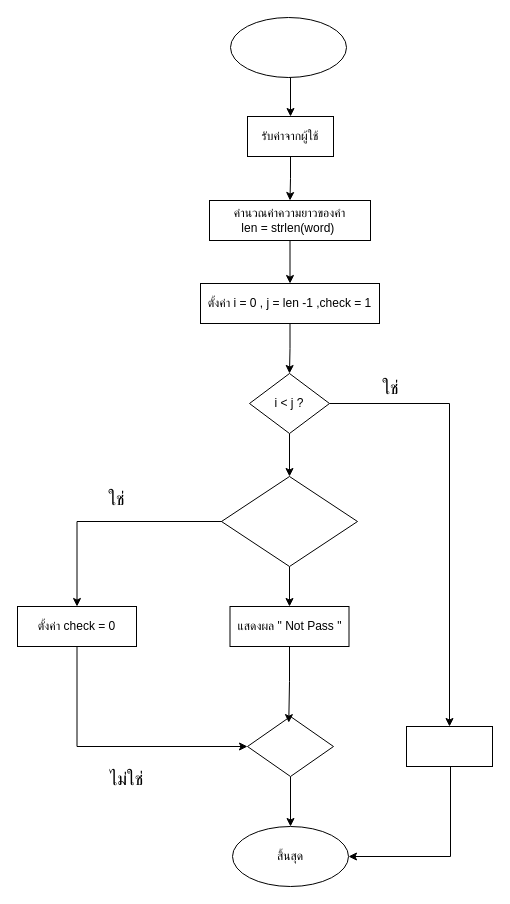
The diagram is 510 pixels wide and 904 high, and some of its shapes have lost their labels. Here are the shapes that lost their labels. From the top down, the centre of each, then its label:
pixel 288 47: เริ่มต้น
pixel 289 521: word[i] != word[j] ?
pixel 290 746: check == 1?
pixel 449 746: แสดง " Pass "
